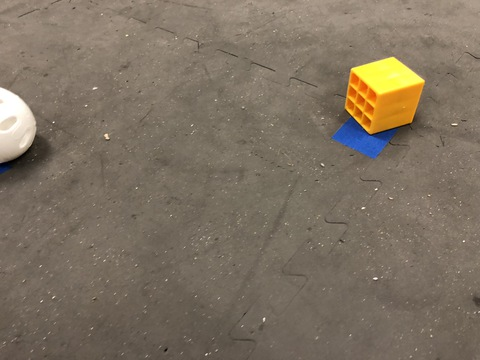ball: (2, 76, 47, 186)
block: (330, 58, 435, 169)
